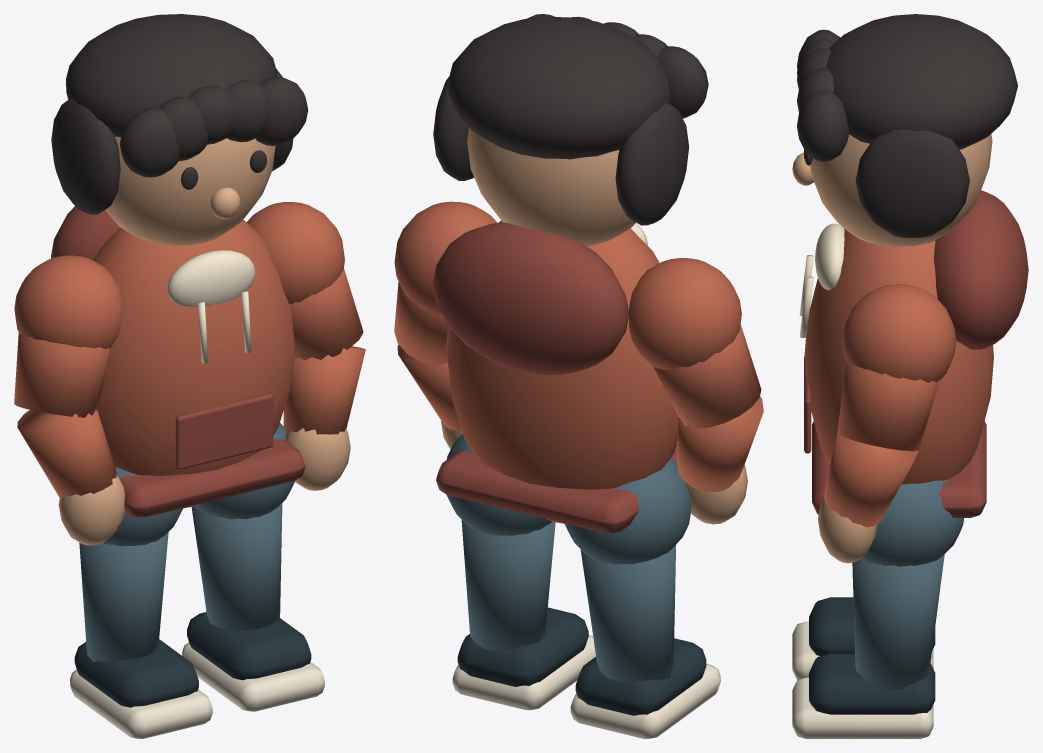
Rendered from adult_student_idle.glb.
3 views of the same model, side by side, from view 1: azimuth 30°, elevation 25°; view 2: azimuth 150°, elevation 25°; view 3: azimuth 270°, elevation 25° (orthographic). The views are drawn at different scales.
Parts seen in each view (by area): view 1: Tapered hoodie shell, Layered hair crown, Adult head, Tapered trouser leg, Tapered trouser leg.001, Hoodie shoulder, Hoodie hem, Hoodie shoulder.001, Full hoodie sleeve, Cuffed sleeve, Short side hair, Canvas shoe upper.001 (+18 smaller); view 2: Tapered hoodie shell, Layered hair crown, Raised hood, Adult head, Tapered trouser leg, Hoodie shoulder, Tapered trouser leg.001, Hoodie hem, Short side hair, Denim hip, Full hoodie sleeve, Hoodie shoulder.001 (+11 smaller); view 3: Layered hair crown, Tapered hoodie shell, Raised hood, Tapered trouser leg.001, Short side hair.001, Hoodie shoulder.001, Full hoodie sleeve.001, Adult head, Denim hip.001, Cuffed sleeve.001, Canvas shoe upper.001, Canvas shoe sole.001 (+12 smaller).
Part boxes in pixels (x1,y1,x2,y2): Tapered hoodie shell: [93, 220, 294, 508]; Layered hair crown: [66, 14, 276, 137]; Adult head: [105, 136, 275, 245]; Tapered trouser leg: [79, 532, 168, 662]; Tapered trouser leg.001: [191, 503, 282, 630]; Hoodie shoulder: [14, 255, 121, 349]; Hoodie hem: [119, 439, 305, 517]; Hoodie shoulder.001: [247, 202, 344, 303]; Full hoodie sleeve: [14, 333, 109, 417]; Cuffed sleeve: [17, 410, 117, 497]; Short side hair: [51, 99, 120, 214]; Canvas shoe upper.001: [187, 612, 311, 680]; Tapered hoodie shell: [446, 220, 678, 523]; Layered hair crown: [448, 16, 670, 159]; Raised hood: [432, 222, 629, 374]; Adult head: [467, 127, 635, 245]; Tapered trouser leg: [580, 544, 676, 682]; Hoodie shoulder: [629, 258, 741, 369]; Tapered trouser leg.001: [461, 520, 555, 651]; Hoodie hem: [436, 443, 677, 533]; Short side hair: [615, 102, 688, 225]; Denim hip: [564, 458, 691, 564]; Full hoodie sleeve: [653, 324, 761, 428]; Hoodie shoulder.001: [394, 201, 497, 315]; Layered hair crown: [826, 14, 1017, 149]; Tapered hoodie shell: [804, 228, 993, 484]; Raised hood: [934, 190, 1028, 349]; Tapered trouser leg.001: [852, 554, 944, 691]; Short side hair.001: [855, 129, 969, 238]; Hoodie shoulder.001: [842, 284, 956, 382]; Full hoodie sleeve.001: [837, 361, 939, 451]; Adult head: [810, 133, 992, 246]; Denim hip.001: [860, 480, 964, 566]; Cuffed sleeve.001: [824, 430, 918, 527]; Canvas shoe upper.001: [809, 653, 935, 714]; Canvas shoe sole.001: [792, 677, 933, 738].
Size of the model in its own units: 1.33 by 2.43 by 0.785.
